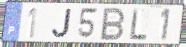1: (159, 8, 171, 43), (28, 7, 38, 38)
5: (77, 7, 100, 40)
B: (99, 7, 127, 41)
J: (51, 8, 73, 39)
L: (129, 7, 148, 41)
